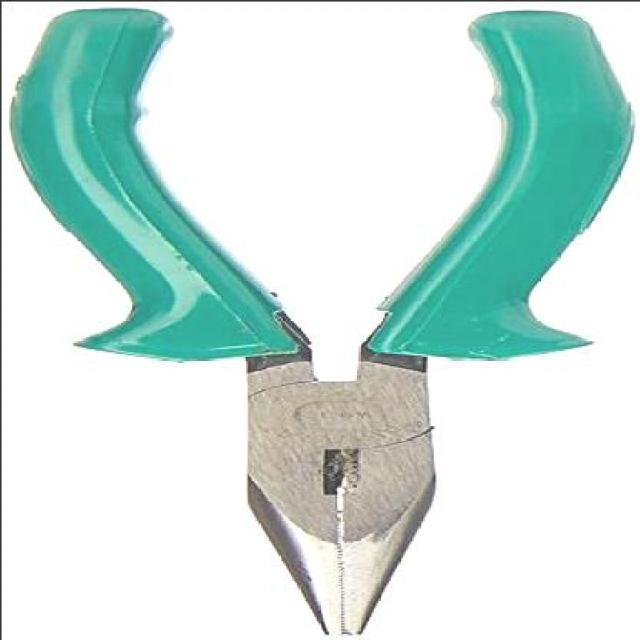pliers: (15, 9, 628, 638)
